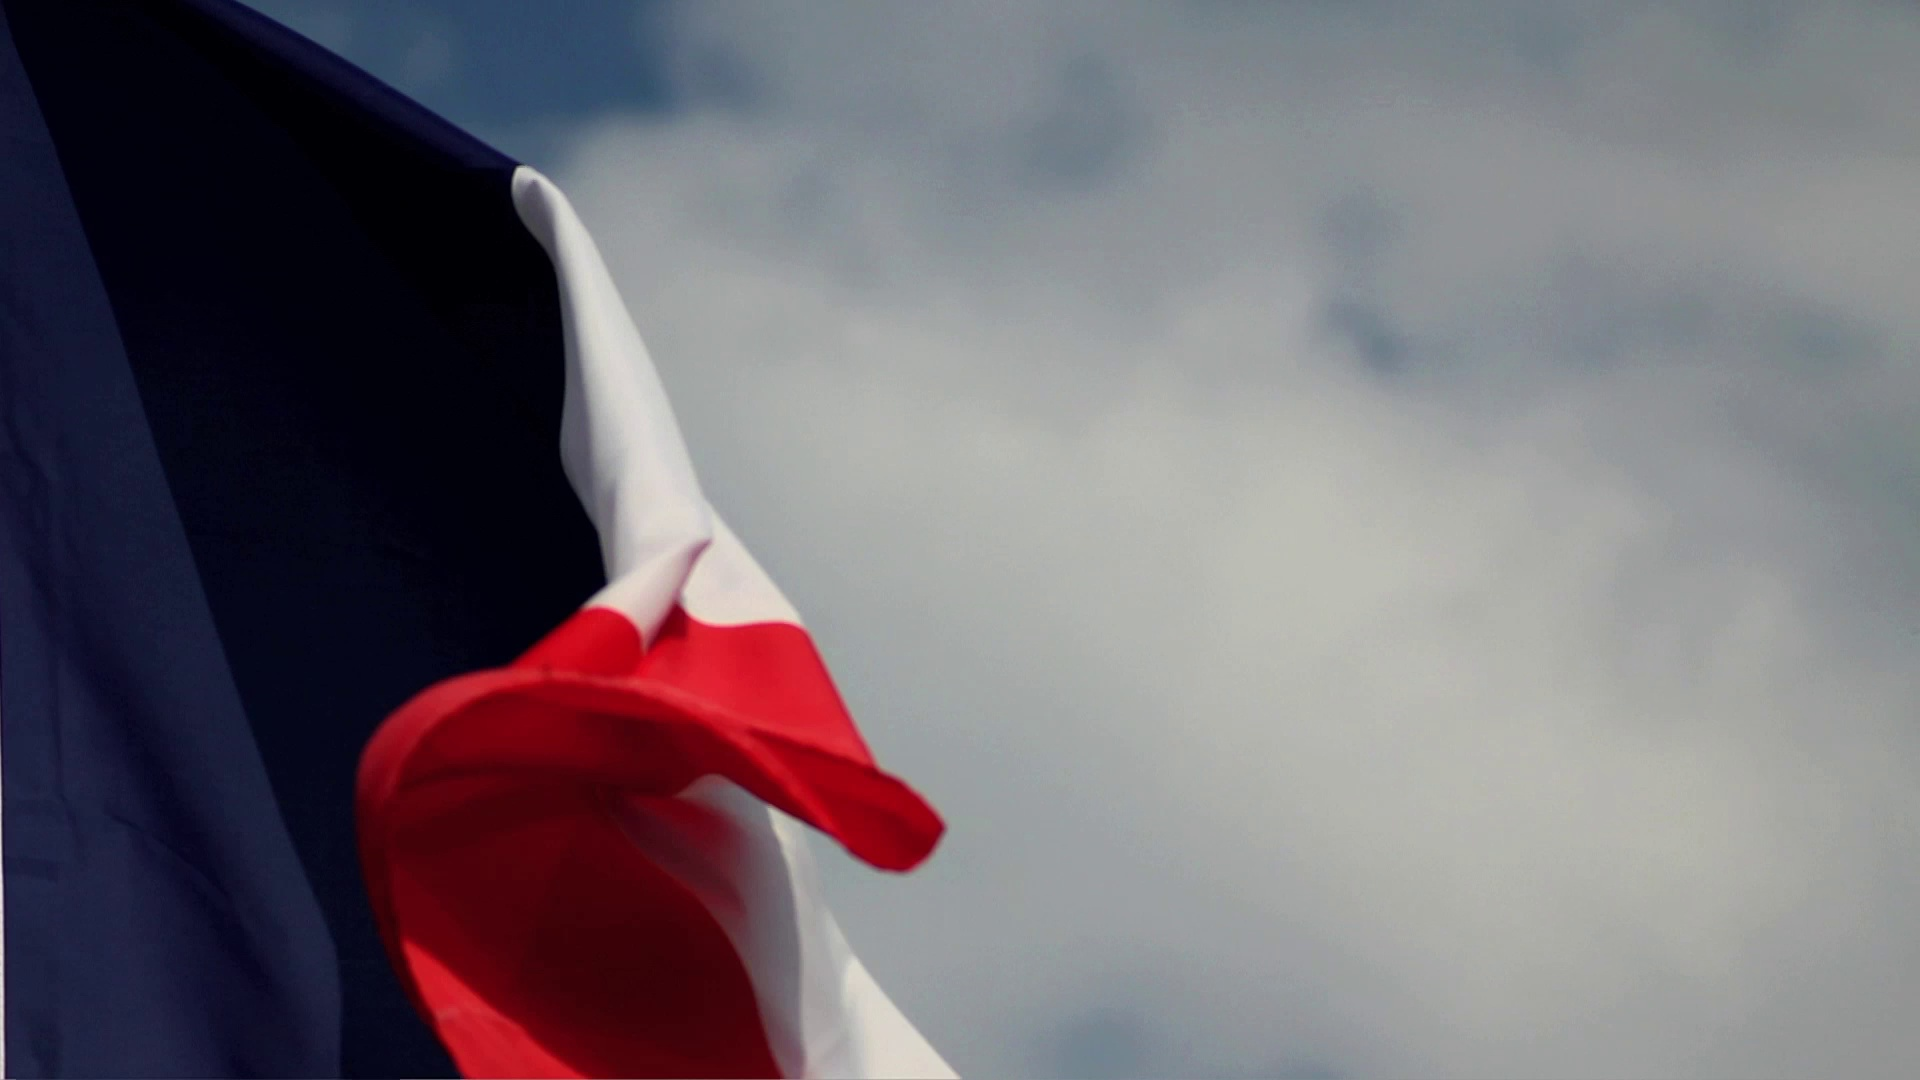French Flag: (1, 1, 964, 1080)
